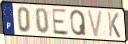0: (34, 7, 51, 35), (16, 6, 32, 35)
E: (51, 8, 70, 37)
K: (107, 11, 122, 39)
Q: (70, 9, 88, 38)
V: (86, 9, 105, 39)
